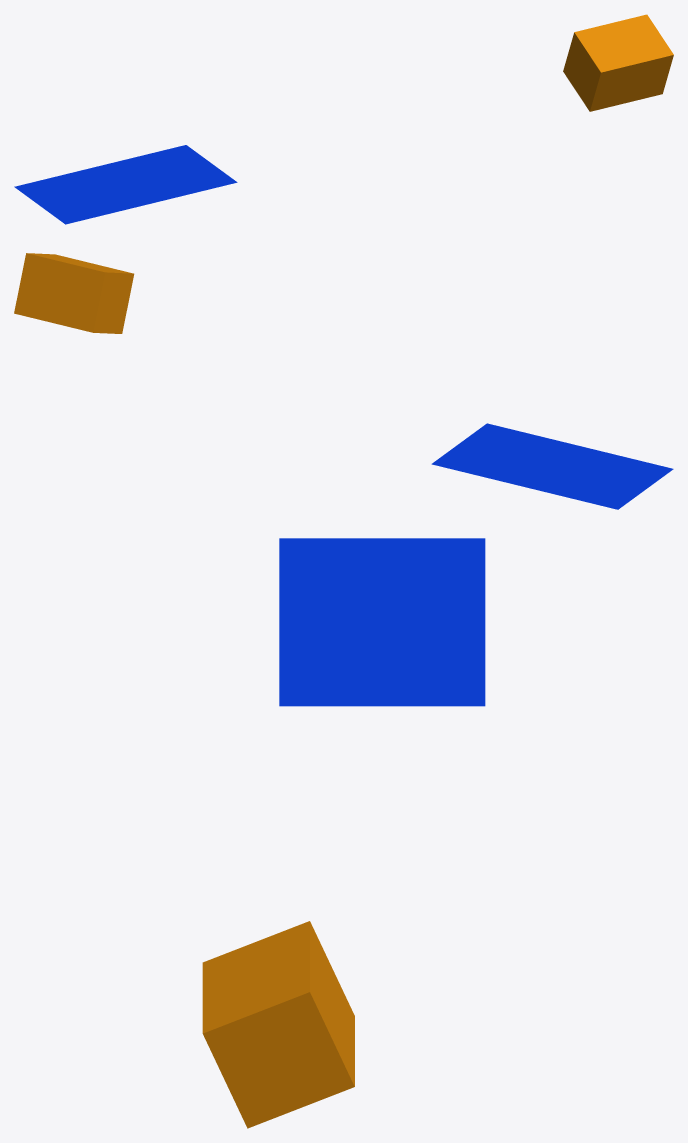
Rendered from asset.glb.
3 views of the same model, one above another, from view 1: azimuth 30°, elevation 25°; view 2: azimuth 150°, elevation 25°; view 3: azimuth 270°, elevation 25° (orthographic). The views are drawn at different scales.
Parts seen in each view (by area): view 1: 立方体, Cube; view 2: 立方体, Cube; view 3: 立方体, Cube.
Part boxes in pixels (bbox=[...]): 立方体: bbox=[14, 145, 237, 224]; Cube: bbox=[563, 14, 673, 111]; 立方体: bbox=[431, 423, 673, 509]; Cube: bbox=[14, 253, 134, 333]; 立方体: bbox=[279, 538, 485, 706]; Cube: bbox=[202, 921, 354, 1128].
Size of the model in its own units: 41.32 by 4.58 by 8.58.
